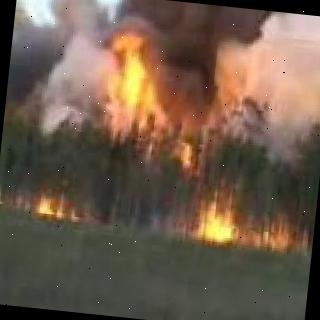fire: (98, 18, 210, 165), (194, 183, 239, 240), (38, 187, 72, 220), (266, 223, 296, 250)
